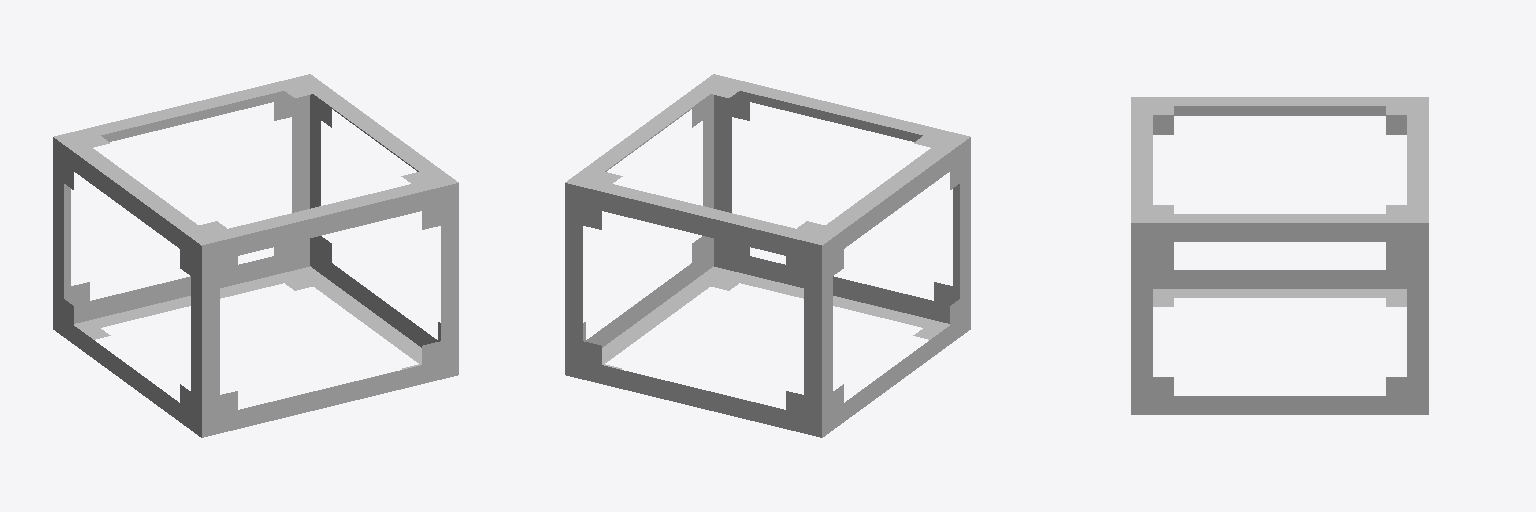
The model's file is reinforced_chest_frame.obj.
The picture shows the model from 3 angles: view 1: azimuth 30°, elevation 25°; view 2: azimuth 150°, elevation 25°; view 3: azimuth 270°, elevation 25°; orthographic projection.
Visible parts, largest first — view 1: reinforced_chest_frame; view 2: reinforced_chest_frame; view 3: reinforced_chest_frame.
Part boxes in pixels (bbox=[...]): reinforced_chest_frame: bbox=[53, 74, 458, 437]; reinforced_chest_frame: bbox=[565, 74, 970, 437]; reinforced_chest_frame: bbox=[1131, 97, 1428, 414].
Size of the model in its own units: 0.875 by 0.625 by 0.875.